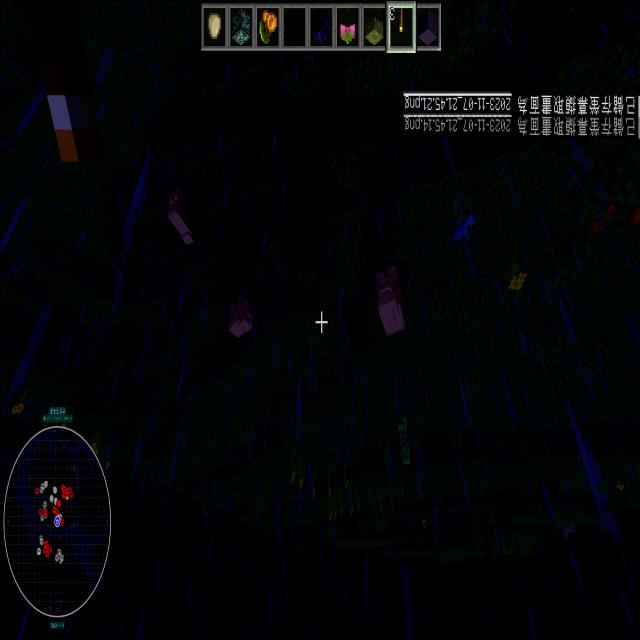Creeper: (394, 408, 412, 466)
Spider: (273, 511, 284, 525)
Zombie: (343, 498, 358, 532)
chicken: (418, 508, 430, 530)
pig: (371, 258, 410, 339), (162, 178, 195, 248), (224, 291, 254, 342)
